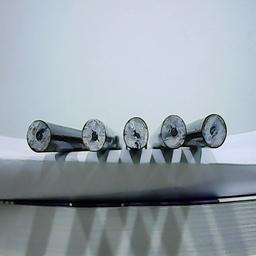pen: (160, 113, 189, 149), (201, 111, 228, 149), (25, 118, 52, 153), (122, 116, 149, 151), (80, 117, 107, 152)
